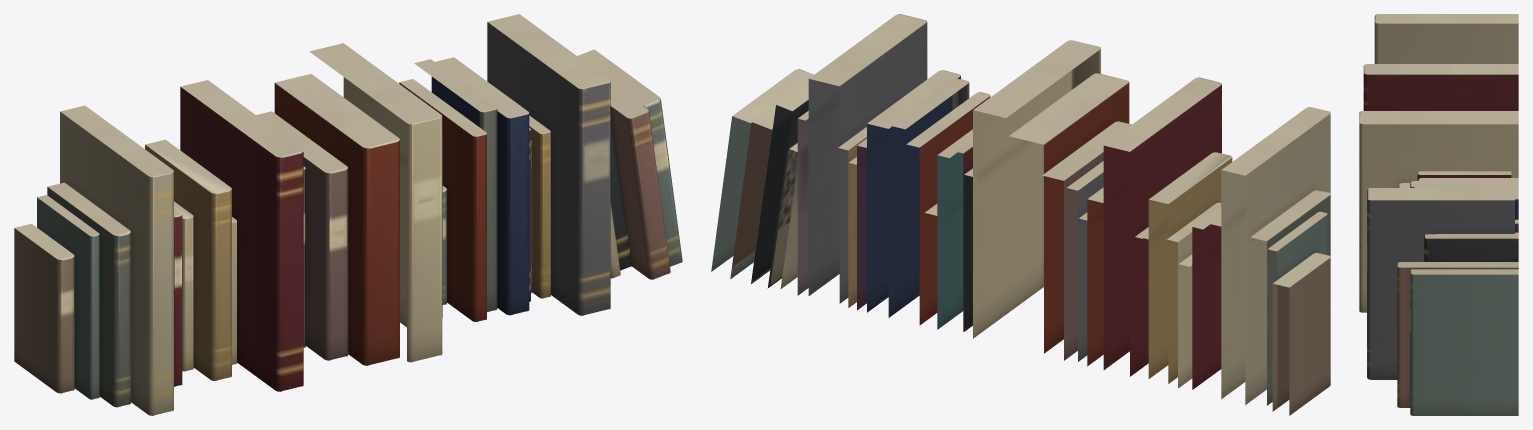
The model's file is book-row-90.glb.
3 renders of one model, left to right at view 1: azimuth 30°, elevation 25°; view 2: azimuth 150°, elevation 25°; view 3: azimuth 270°, elevation 25°, orthographic. The views are drawn at different scales.
Parts seen in each view (by area): view 1: row_middle, row_right, row_left; view 2: row_middle, row_right, row_left; view 3: row_right, row_middle, row_left.
Boxes of the visible parts, bbox=[...] form: row_middle: bbox=[180, 43, 446, 391]; row_right: bbox=[399, 14, 682, 321]; row_left: bbox=[14, 105, 237, 415]; row_middle: bbox=[924, 40, 1221, 376]; row_right: bbox=[711, 14, 990, 325]; row_left: bbox=[1135, 107, 1330, 415]; row_right: bbox=[1367, 181, 1518, 415]; row_middle: bbox=[1359, 64, 1518, 312]; row_left: bbox=[1374, 14, 1518, 63].
Bounding box in the file's own units: 0.8757 × 0.332 × 0.2538.
1 material, 1 textured.
